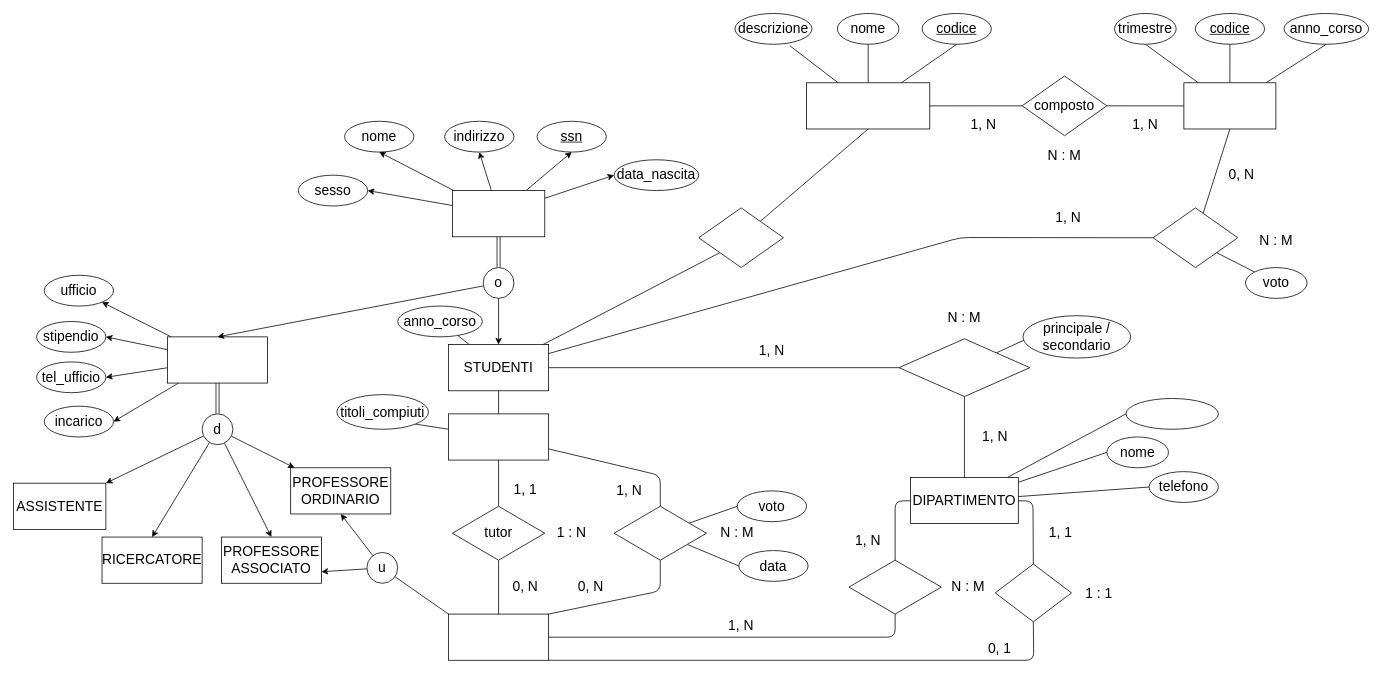
This 1382x675 diagram has some shape labels left out. Here are the shapes that lost their labels. From the top down, the centre of each, then its label:
[868,105]: INSEGNAMENTO
[1229,105]: MODULO
[498,213]: PERSONA
[740,237]: frequenta
[1195,237]: libretto
[217,359]: LAVORATORI
[964,367]: specializzazione
[1171,413]: numero_uffico
[498,436]: LAUREATO
[659,533]: commisione
[894,586]: afferisce
[1032,592]: dirige
[498,636]: CORPO DOCENTE
